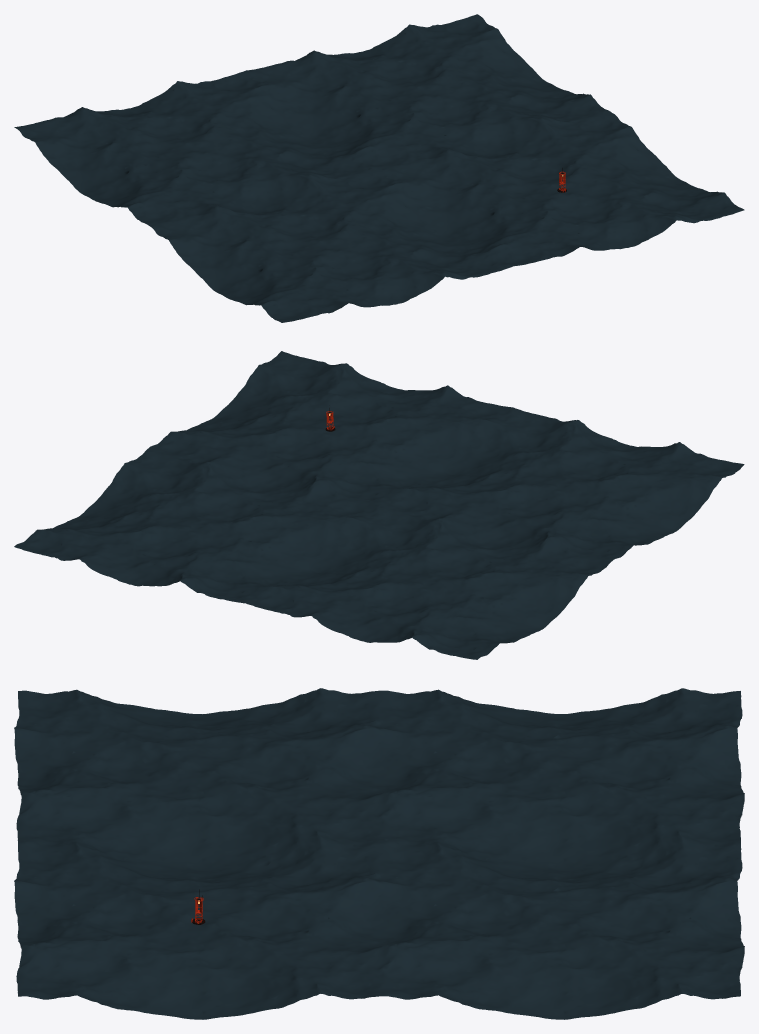
3 renders of one model, top to bottom at view 1: azimuth 30°, elevation 25°; view 2: azimuth 150°, elevation 25°; view 3: azimuth 270°, elevation 25°, orthographic. The views are drawn at different scales.
Visible parts, largest first — view 1: 洋面3; view 2: 洋面3; view 3: 洋面3.
Part boxes in pixels (box(x1,y1,x2,y2)): 洋面3: box(14, 14, 744, 322); 洋面3: box(14, 351, 744, 659); 洋面3: box(14, 688, 744, 1019).
Size of the model in its own units: 70.53 by 5.88 by 70.77.
